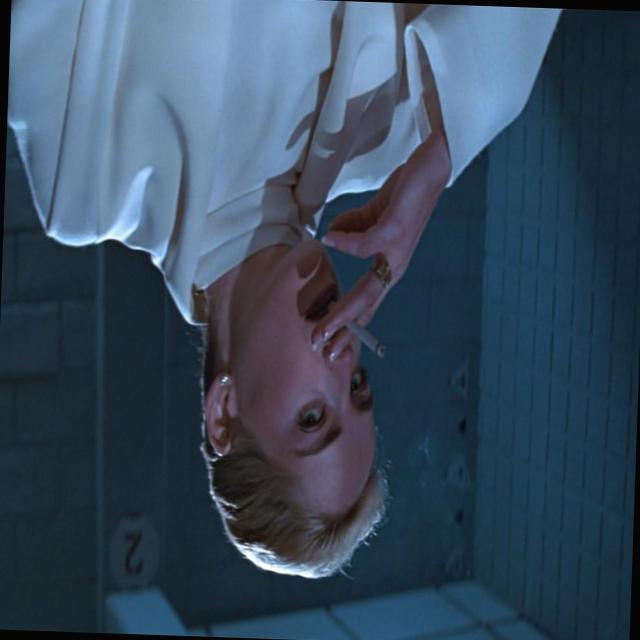smoke: (328, 294, 397, 374)
